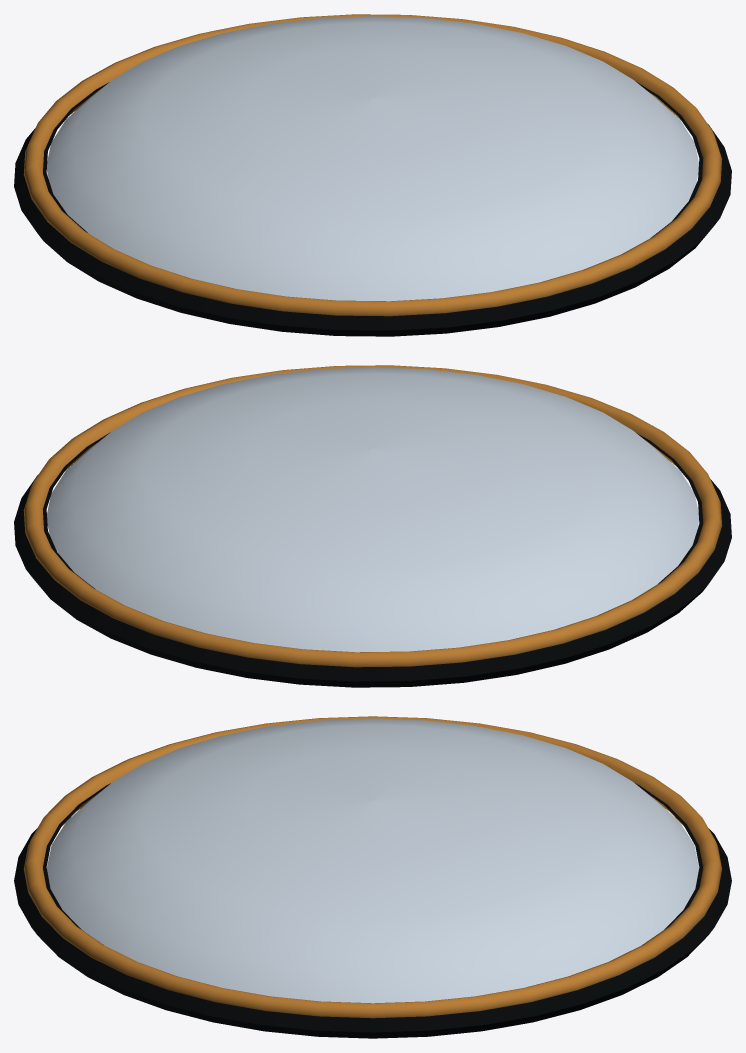
Rendered from insert-bezel.dae.
3 views of the same model, one above another, from view 1: azimuth 30°, elevation 25°; view 2: azimuth 150°, elevation 25°; view 3: azimuth 270°, elevation 25° (orthographic).
Parts seen in each view (by area): view 1: lens, accent, dark; view 2: lens, accent, dark; view 3: lens, accent, dark.
Part boxes in pixels (x1,y1,x2,y2): lens: (47,16,698,301); accent: (23,14,722,316); dark: (14,81,731,336); lens: (47,367,698,652); accent: (23,365,722,667); dark: (14,432,731,687); lens: (46,718,699,1003); accent: (24,716,721,1018); dark: (14,783,731,1038).
Bounding box in the file's own units: 2.2 × 0.3 × 2.2.
